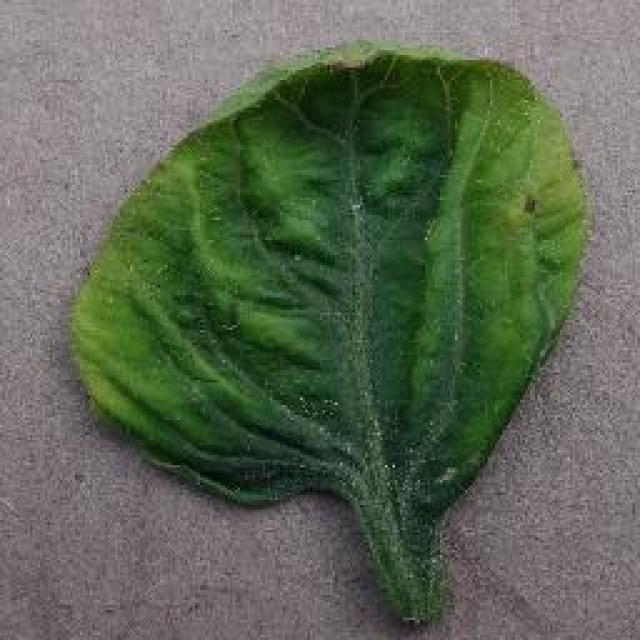Tomato yellow virus leaf: (72, 43, 584, 500)
